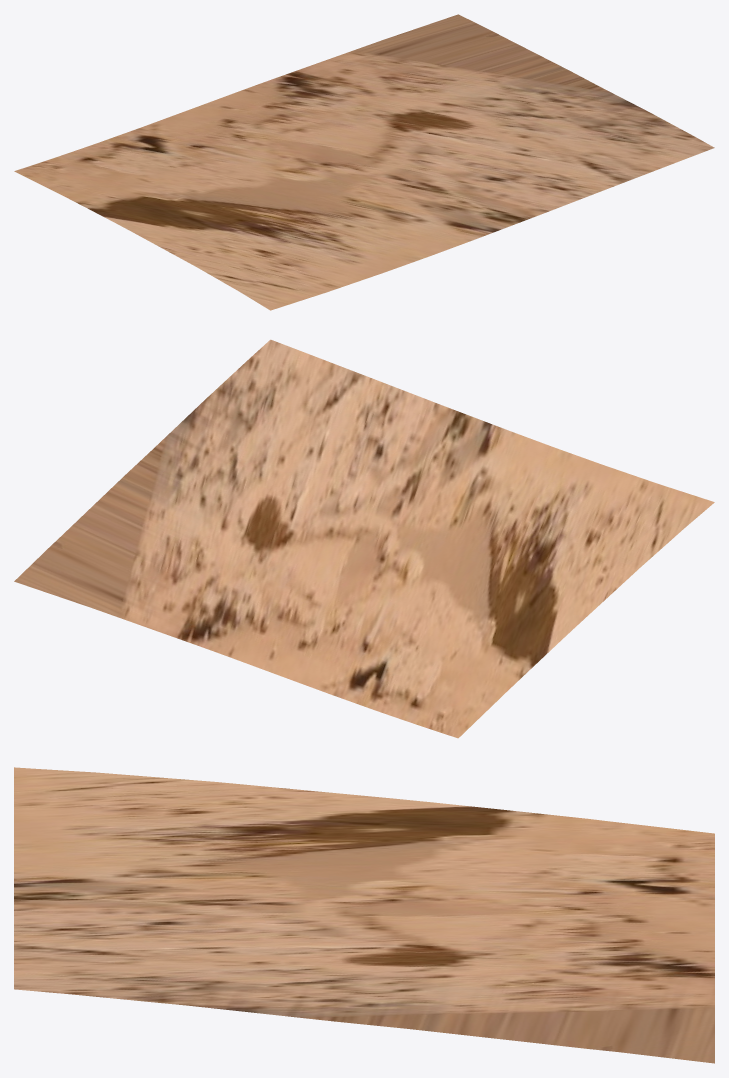
3 views of the same model, one above another, from view 1: azimuth 30°, elevation 25°; view 2: azimuth 150°, elevation 25°; view 3: azimuth 270°, elevation 25° (orthographic). The views are drawn at different scales.
Size of the model in its own units: 2.09 by 0.4616 by 2.09.
3 materials, 3 textured.
